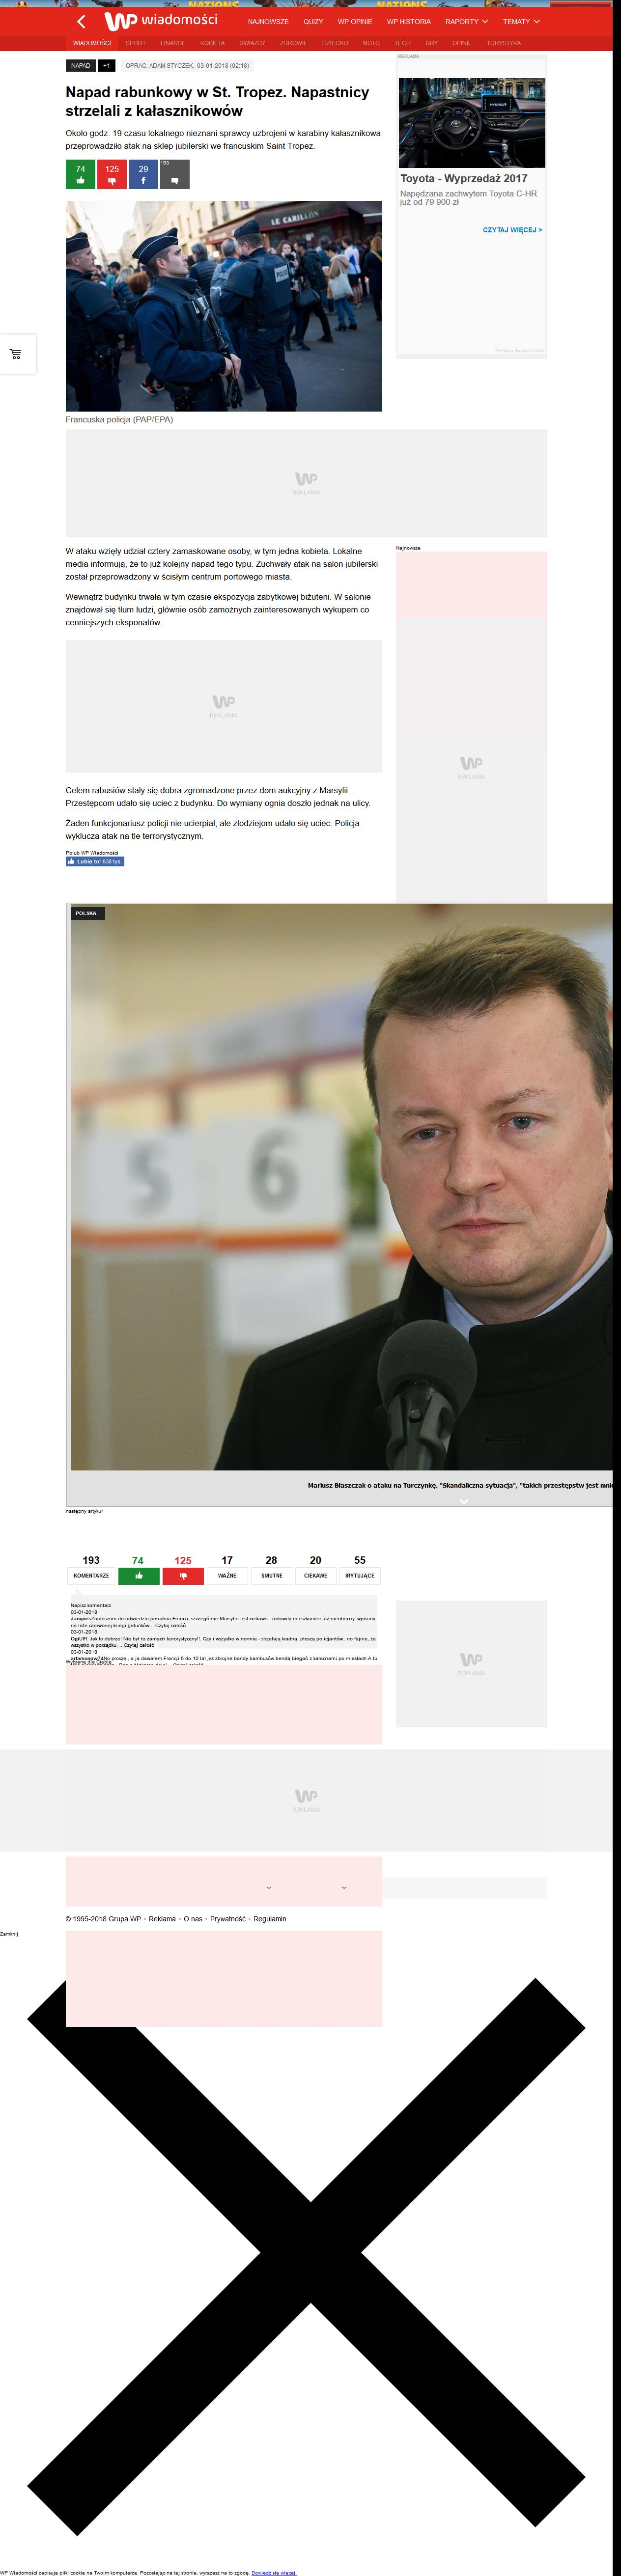title: (66, 85, 370, 118)
